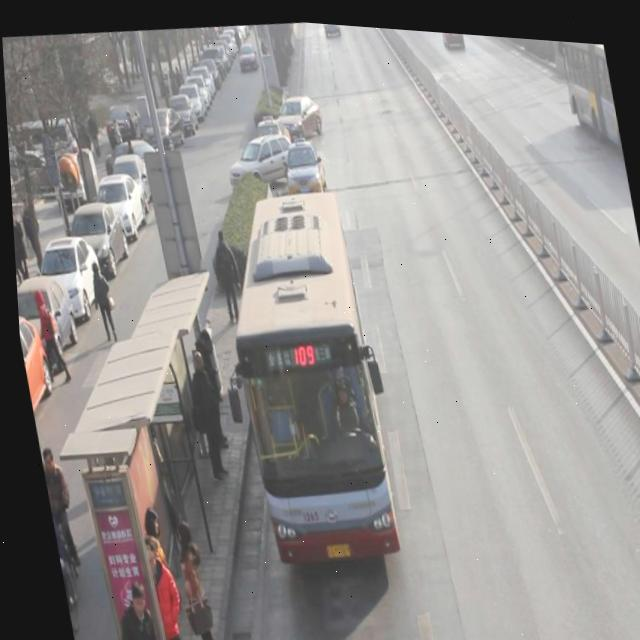car: (221, 126, 297, 193), (279, 130, 327, 194), (271, 87, 325, 138), (252, 108, 294, 158), (439, 26, 465, 42)
van: (204, 179, 397, 568), (555, 32, 623, 158)
